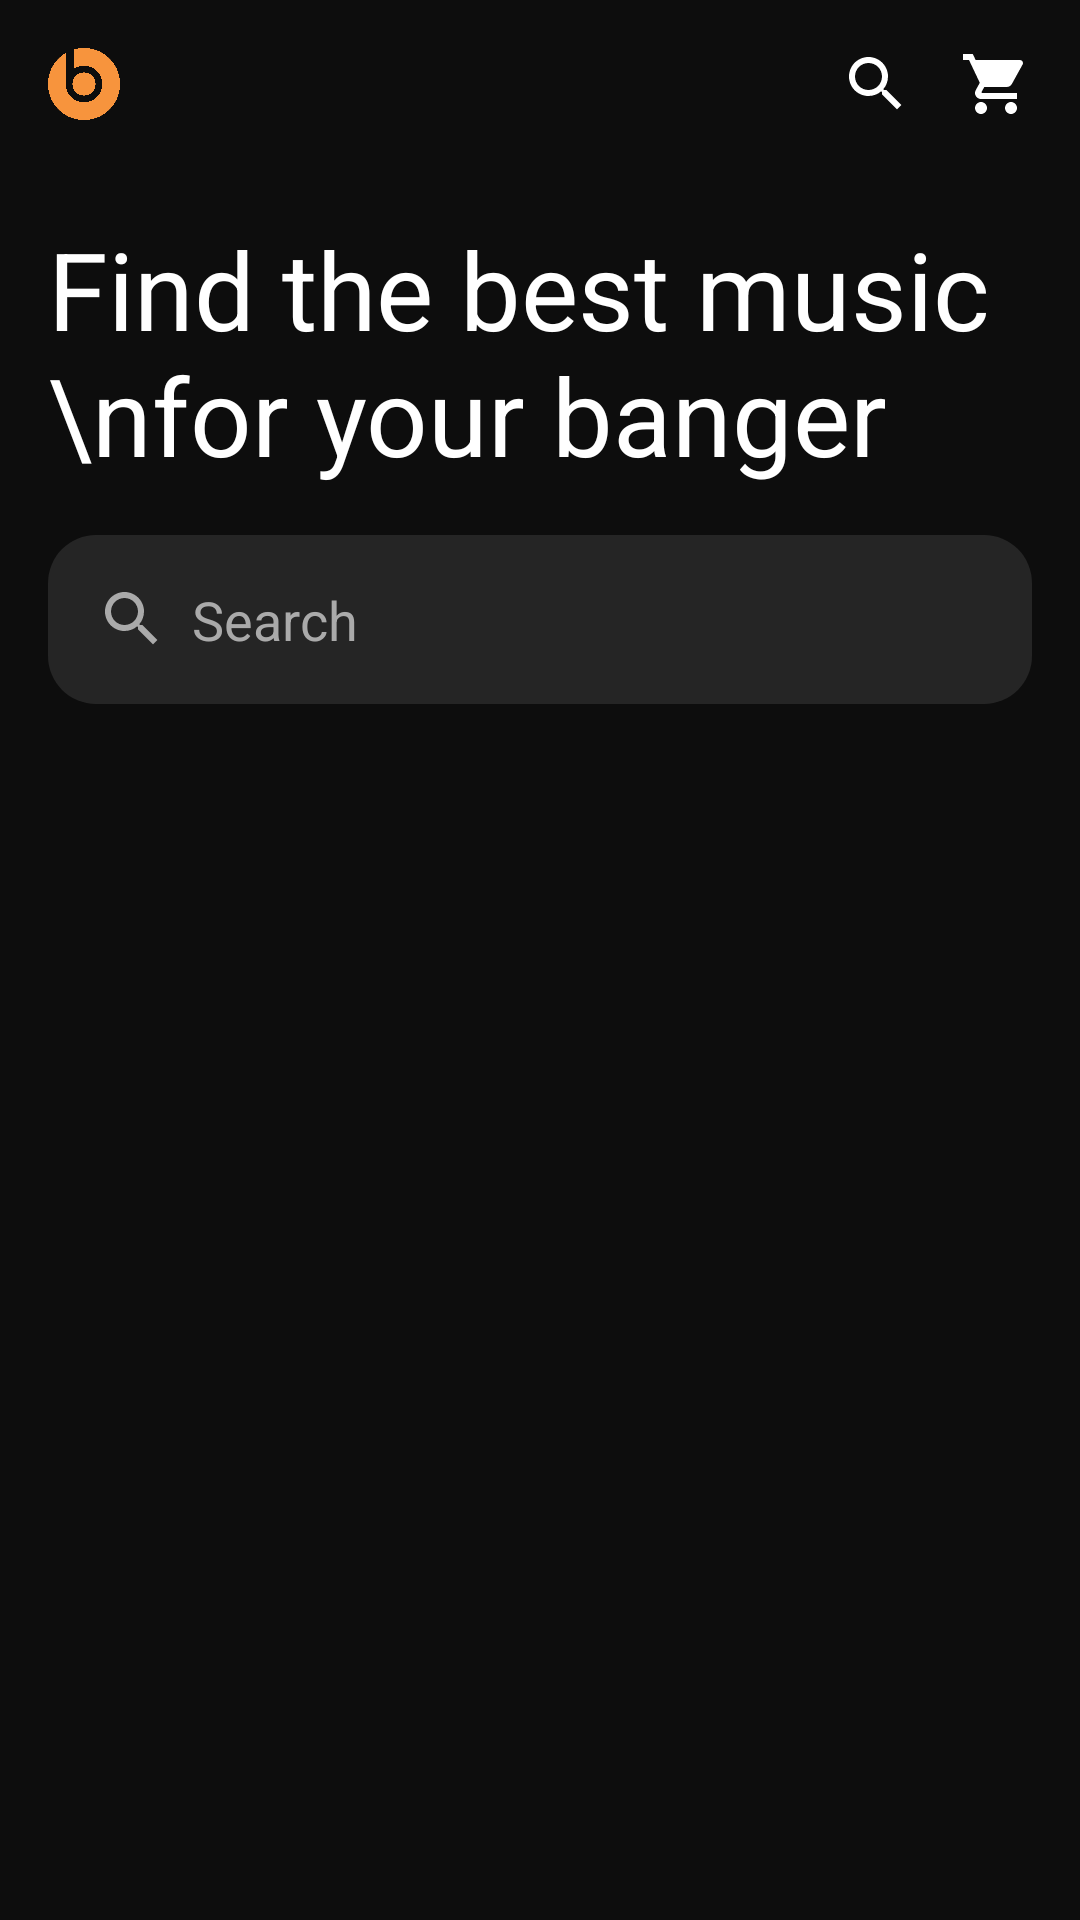

Icons on this 1080×1920 Android screen, each with its box as (x1, y1, x2, y2):
cart: (963, 54, 1023, 114)
search: (849, 57, 901, 109)
